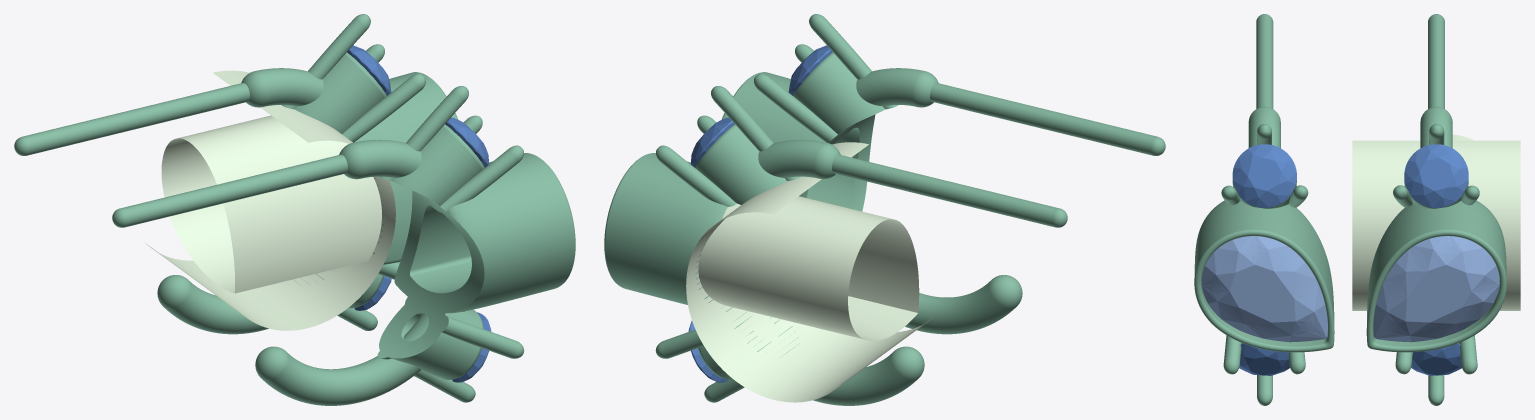
The picture shows the model from 3 angles, left to right: view 1: azimuth 30°, elevation 25°; view 2: azimuth 150°, elevation 25°; view 3: azimuth 270°, elevation 25°; orthographic projection. The views are drawn at different scales.
Visible parts, largest first — view 1: aretes anto.3dm, Gem (×2); view 2: aretes anto.3dm, Gem (×2); view 3: aretes anto.3dm, Gem (×6).
Boxes of the visible parts, x1,y1,x2,y2 form: aretes anto.3dm: (14, 14, 575, 405); Gem (×2): (347, 45, 489, 167); aretes anto.3dm: (604, 14, 1165, 405); Gem (×2): (690, 45, 832, 167); aretes anto.3dm: (1194, 14, 1520, 405); Gem (×6): (1201, 144, 1499, 375).
Bounding box in the file's own units: 2.82 × 1.99 × 2.11.
